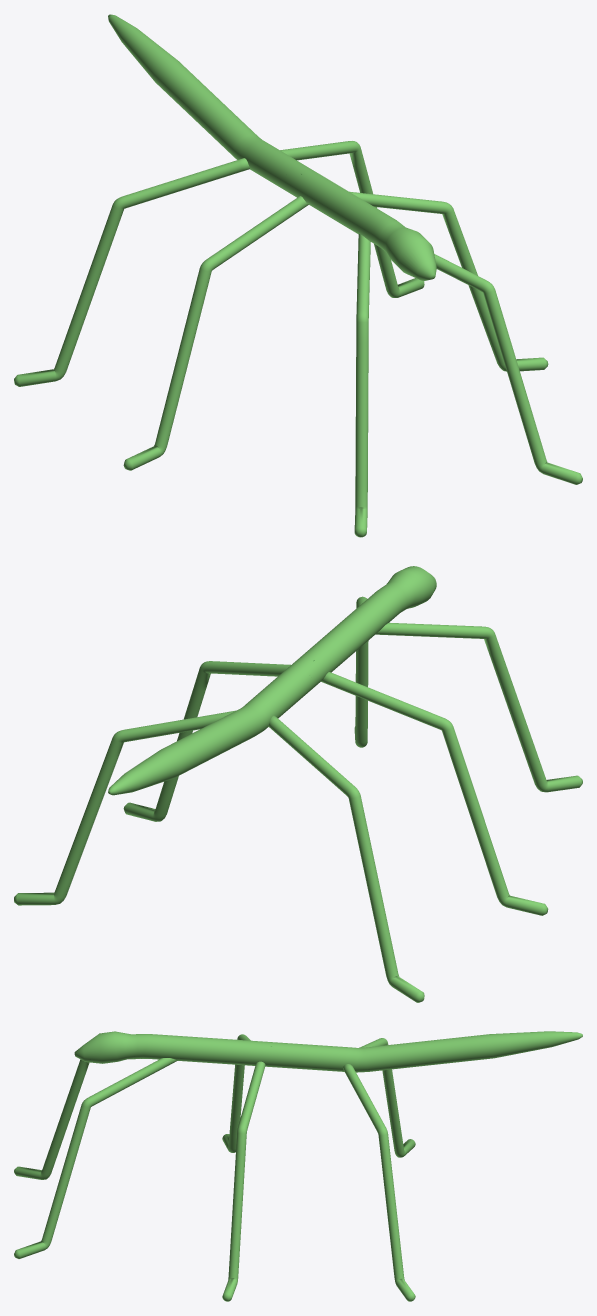
The model's file is stickbug.fbx.
3 views of the same model, one above another, from view 1: azimuth 30°, elevation 25°; view 2: azimuth 150°, elevation 25°; view 3: azimuth 270°, elevation 25° (orthographic). The views are drawn at different scales.
Visible parts, largest first — view 1: Cylinder; view 2: Cylinder; view 3: Cylinder.
Boxes of the visible parts, x1,y1,x2,y2 form: Cylinder: [14, 14, 582, 537]; Cylinder: [14, 566, 582, 1002]; Cylinder: [14, 1031, 582, 1301].
Size of the model in its own units: 1586 by 882 by 2356.
Materials: 1 (1 with a texture image).
